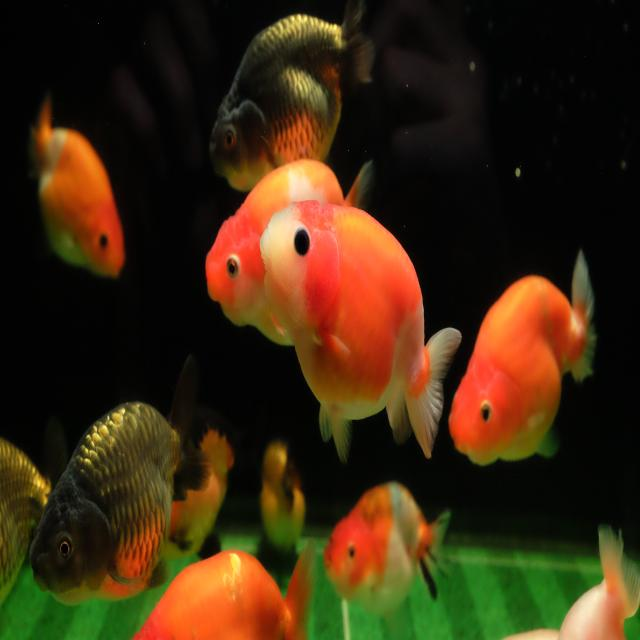Goldfish: (260, 198, 462, 469), (27, 349, 212, 610), (447, 245, 600, 468), (206, 0, 380, 196), (130, 534, 318, 640), (322, 481, 452, 619), (28, 98, 126, 280)
